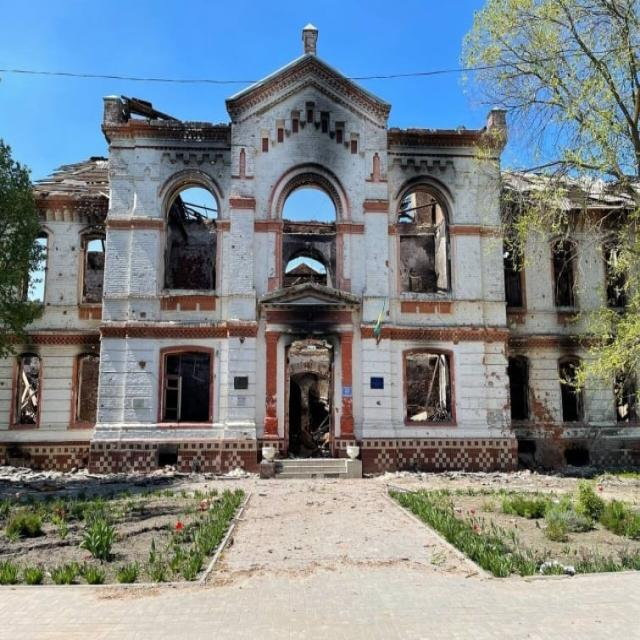broken_window: (395, 182, 453, 300), (161, 179, 220, 293), (158, 346, 214, 424), (402, 347, 455, 425), (12, 352, 41, 426), (550, 236, 577, 309), (558, 354, 585, 424), (80, 231, 105, 305)
building: (0, 21, 639, 478)
